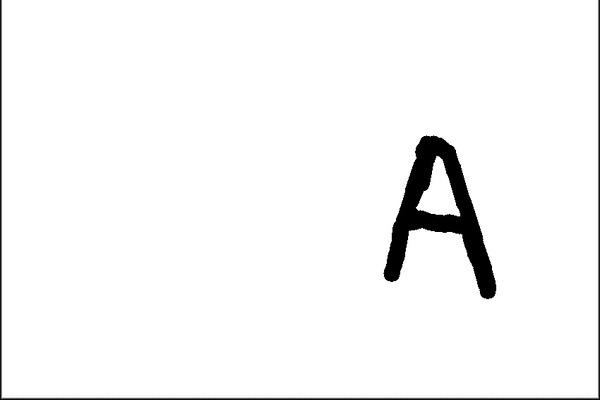A: (364, 131, 505, 311)
